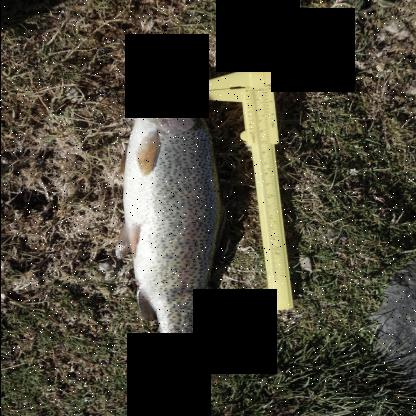fish: (120, 76, 234, 388)
